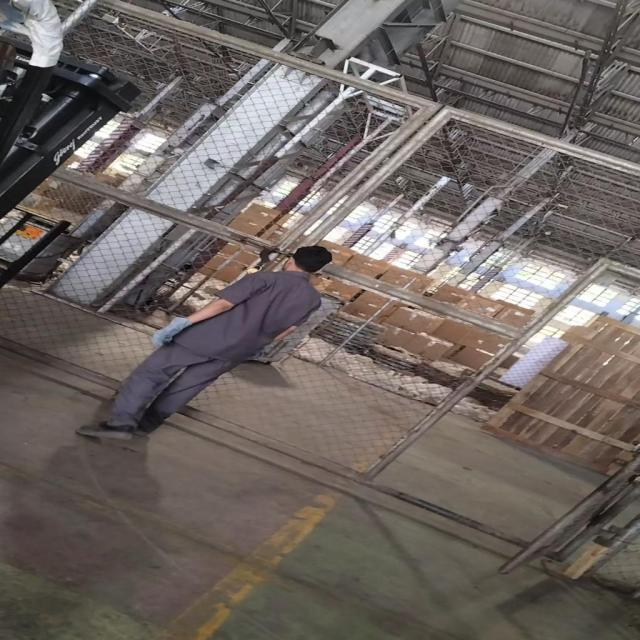Gloves-Detection: (151, 307, 198, 353)
